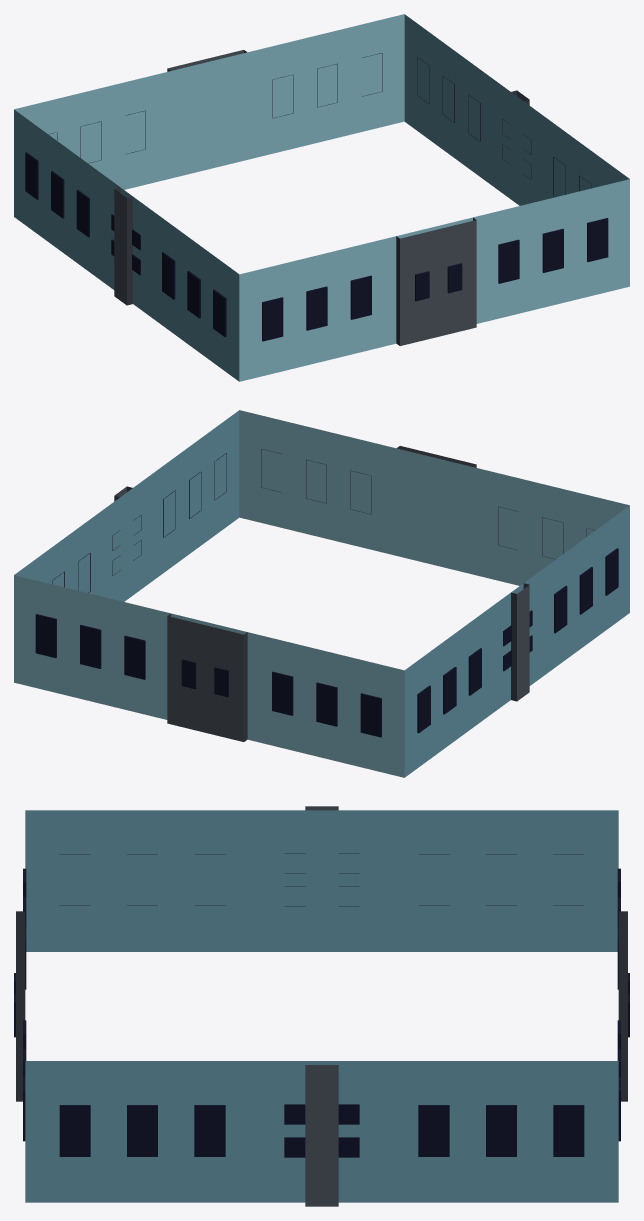
File: TB_CITY_Skysc_Q_LowerBodyB_Blue.FBX
3 renders of one model, top to bottom at view 1: azimuth 30°, elevation 25°; view 2: azimuth 150°, elevation 25°; view 3: azimuth 270°, elevation 25°, orthographic. The views are drawn at different scales.
Parts seen in each view (by area): view 1: TB_CITY_Skysc_Q_LowerBodyB_Blue; view 2: TB_CITY_Skysc_Q_LowerBodyB_Blue; view 3: TB_CITY_Skysc_Q_LowerBodyB_Blue.
Part boxes in pixels (bbox=[...]): TB_CITY_Skysc_Q_LowerBodyB_Blue: bbox=[14, 14, 629, 381]; TB_CITY_Skysc_Q_LowerBodyB_Blue: bbox=[14, 410, 629, 777]; TB_CITY_Skysc_Q_LowerBodyB_Blue: bbox=[14, 806, 629, 1206].
Size of the model in its own units: 19.6 by 5 by 19.73.
